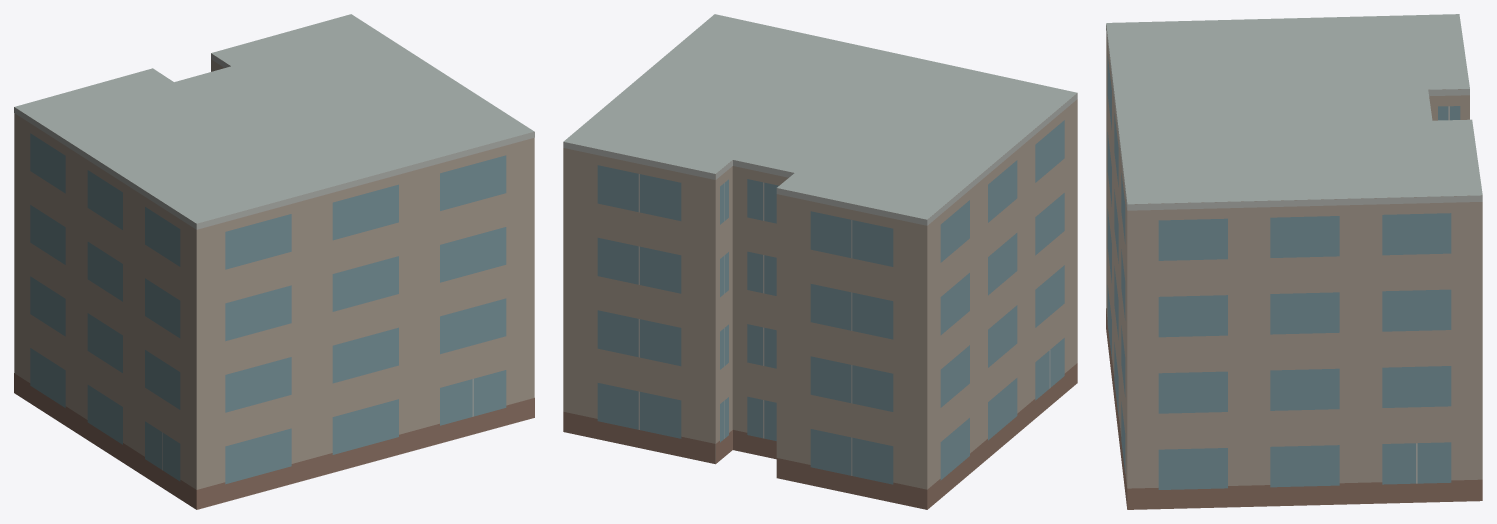
File: survey-upis-32804133.glb
3 renders of one model, left to right at view 1: azimuth 30°, elevation 25°; view 2: azimuth 150°, elevation 25°; view 3: azimuth 270°, elevation 25°, orthographic. The views are drawn at different scales.
Visible parts, largest first — view 1: survey-upis-32804133.tmp; view 2: survey-upis-32804133.tmp; view 3: survey-upis-32804133.tmp.
Boxes of the visible parts, box(x1,y1,x2,y2) form: survey-upis-32804133.tmp: box(14, 14, 534, 509); survey-upis-32804133.tmp: box(563, 14, 1077, 509); survey-upis-32804133.tmp: box(1106, 14, 1482, 509).
Size of the model in its own units: 15.5 by 11.6 by 12.97.
